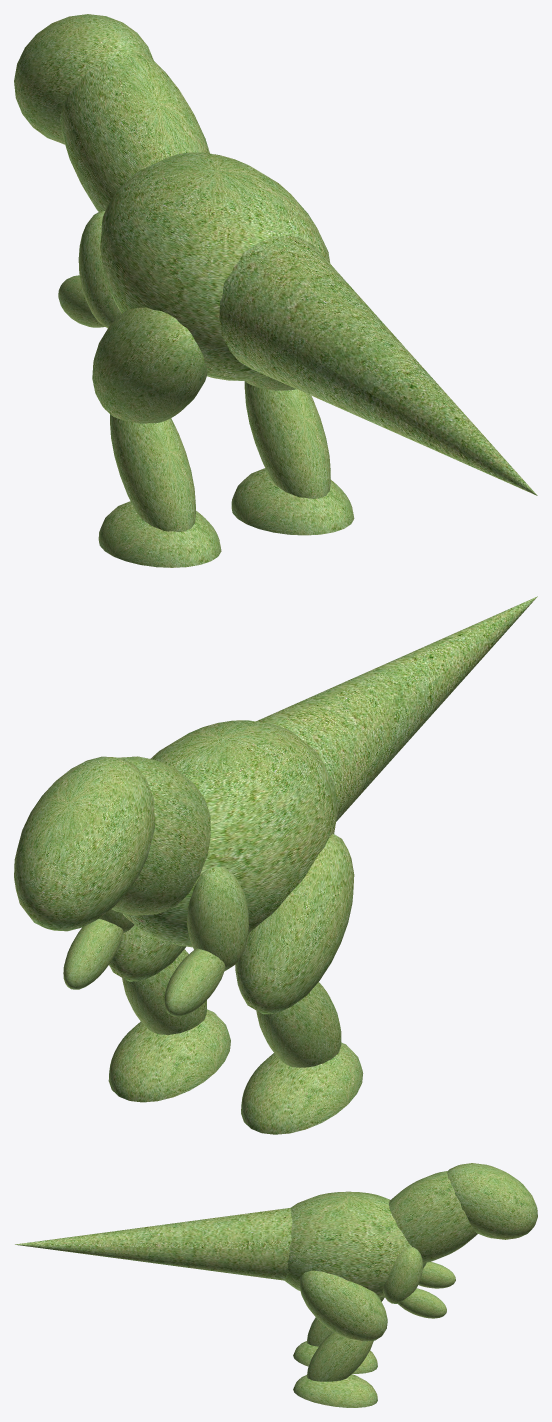
File: VRA_MyFirstDino_ICA_Helton_Evan_146-141-022__b844a054-2c1f-4fdd-9f4f-59cfcae83191.dae
3 renders of one model, top to bottom at view 1: azimuth 30°, elevation 25°; view 2: azimuth 150°, elevation 25°; view 3: azimuth 270°, elevation 25°, orthographic. The views are drawn at different scales.
Parts seen in each view (by area): view 1: VRA_MyFirstDino_ICA_Helton_Evan (×11); view 2: VRA_MyFirstDino_ICA_Helton_Evan (×13); view 3: VRA_MyFirstDino_ICA_Helton_Evan (×12).
Boxes of the visible parts, box(x1,y1,x2,y2) form: VRA_MyFirstDino_ICA_Helton_Evan (×11): box(14, 14, 537, 567); VRA_MyFirstDino_ICA_Helton_Evan (×13): box(14, 596, 537, 1134); VRA_MyFirstDino_ICA_Helton_Evan (×12): box(15, 1163, 537, 1407).
Size of the model in its own units: 0.5529 by 2.13 by 0.9825.
